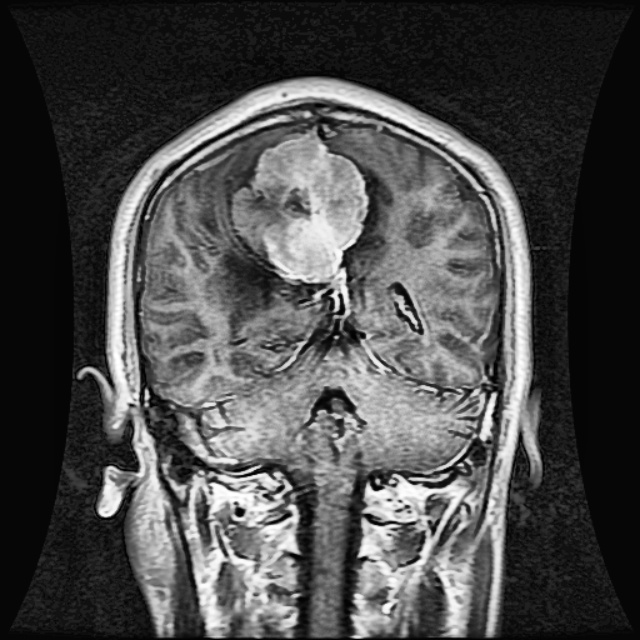Glioma: (233, 132, 368, 283)
